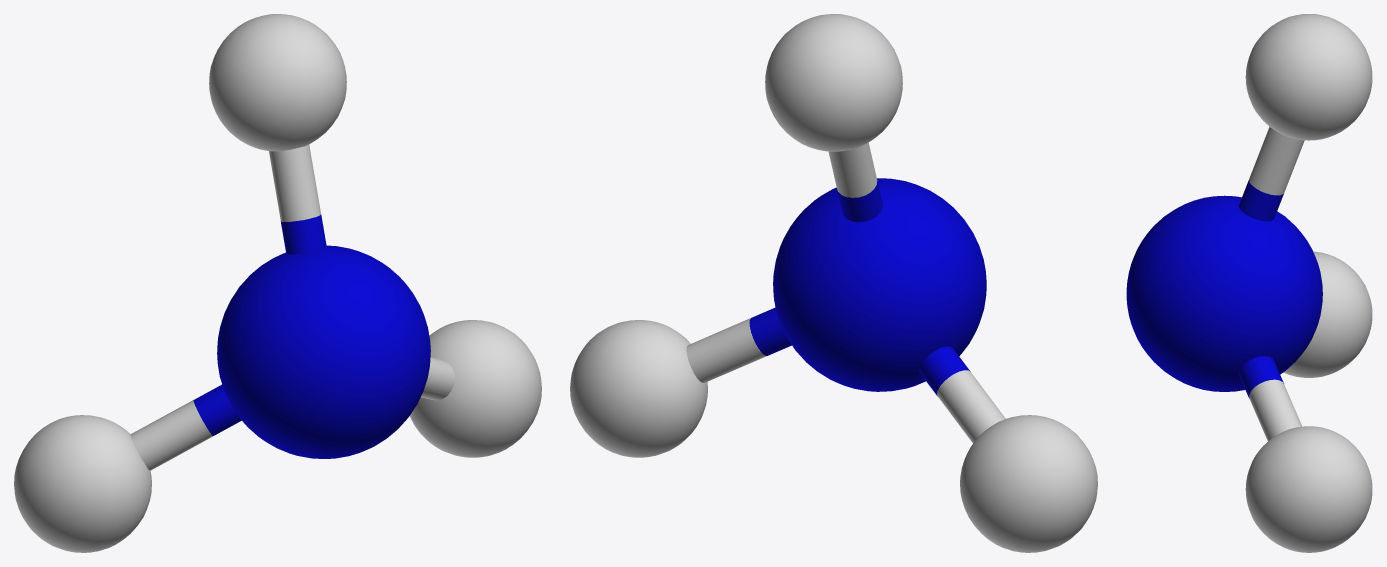
3 views of the same model, side by side, from view 1: azimuth 30°, elevation 25°; view 2: azimuth 150°, elevation 25°; view 3: azimuth 270°, elevation 25° (orthographic). The views are drawn at different scales.
Visible parts, largest first — view 1: NH3; view 2: NH3; view 3: NH3.
Boxes of the visible parts, left/top/right/bottom form: NH3: left=14, top=14, right=541, bottom=552; NH3: left=570, top=14, right=1097, bottom=552; NH3: left=1126, top=14, right=1372, bottom=552.
Size of the model in its own units: 1.27 by 1.14 by 0.5758.
